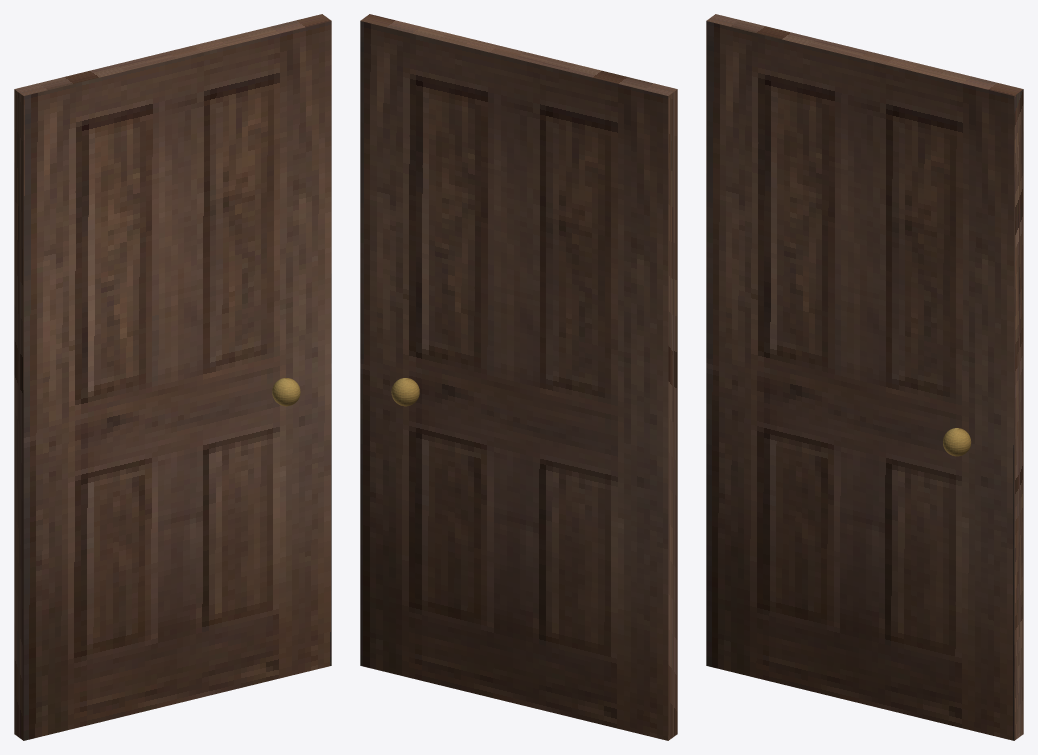
The model's file is door.glb.
The picture shows the model from 3 angles, left to right: view 1: azimuth 30°, elevation 25°; view 2: azimuth 150°, elevation 25°; view 3: azimuth 330°, elevation 25°; orthographic projection.
Parts seen in each view (by area): view 1: Cube, Sfera; view 2: Cube, Sfera.001; view 3: Cube, Sfera.
Part boxes in pixels (x1,y1,x2,y2): Cube: (14,14,331,740); Sfera: (272,378,300,406); Cube: (360,14,677,740); Sfera.001: (391,378,419,406); Cube: (706,14,1023,740); Sfera: (943,428,971,456).
Bounding box in the file's own units: 1.5 × 3 × 0.3.
3 materials, 3 textured.
